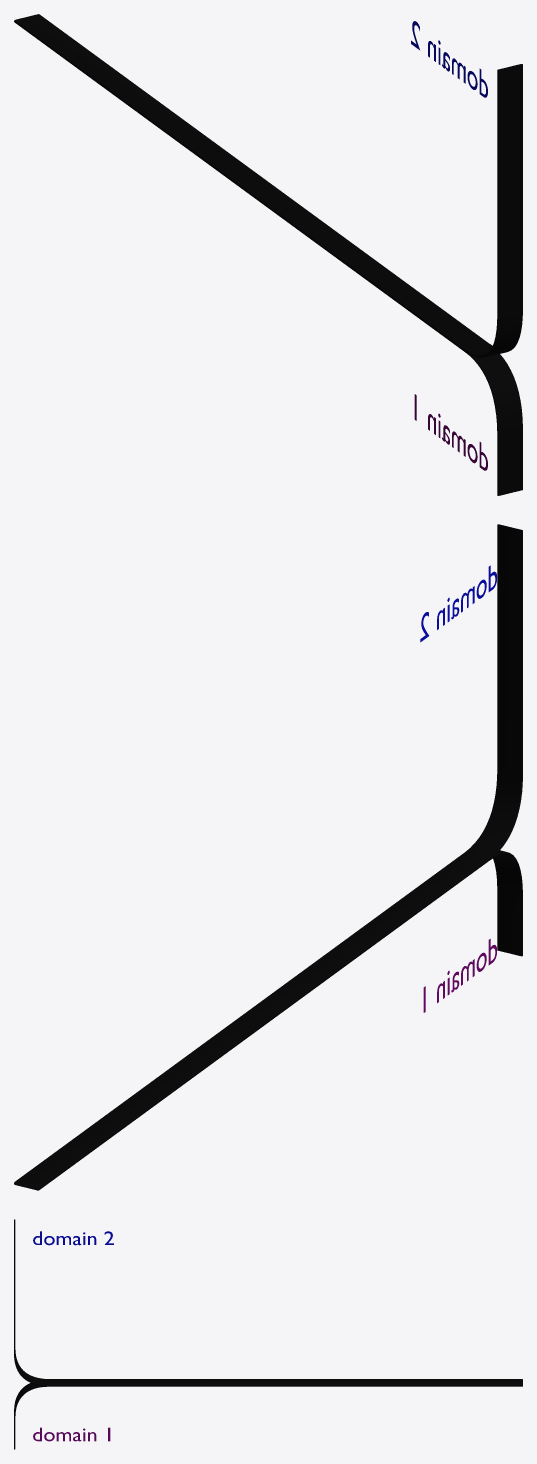
File: Domaine 12.glb
3 renders of one model, top to bottom at view 1: azimuth 30°, elevation 25°; view 2: azimuth 150°, elevation 25°; view 3: azimuth 270°, elevation 25°, orthographic. The views are drawn at different scales.
Visible parts, largest first — view 1: blue frame, domain 2, Domain 1.001; view 2: blue frame, domain 2; view 3: blue frame, domain 2, Domain 1.001.
Part boxes in pixels (bbox=[...]): blue frame: bbox=[14, 14, 522, 495]; domain 2: bbox=[411, 21, 487, 97]; Domain 1.001: bbox=[414, 394, 487, 470]; blue frame: bbox=[14, 524, 522, 1190]; domain 2: bbox=[420, 565, 496, 642]; blue frame: bbox=[14, 1219, 522, 1449]; domain 2: bbox=[33, 1231, 113, 1245]; Domain 1.001: bbox=[33, 1427, 110, 1441].
Size of the model in its own units: 0.0044 by 0.0705 by 0.1455.
